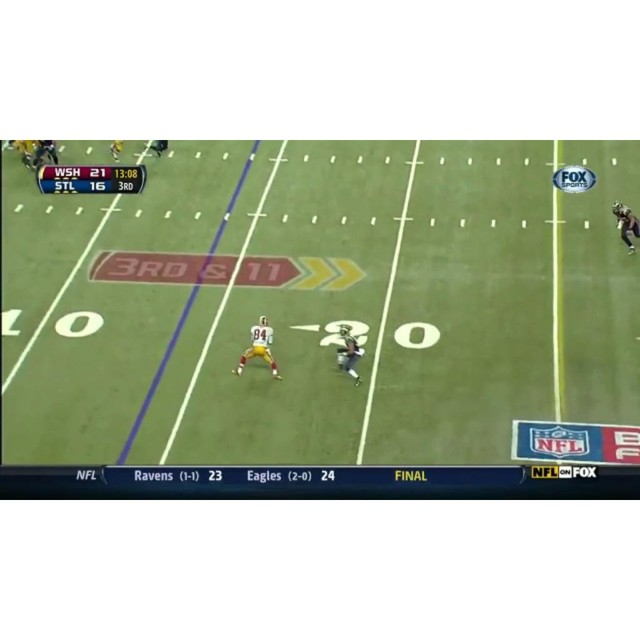american-football-player: (233, 316, 282, 381), (326, 324, 366, 388), (611, 201, 640, 255), (108, 140, 125, 164)
